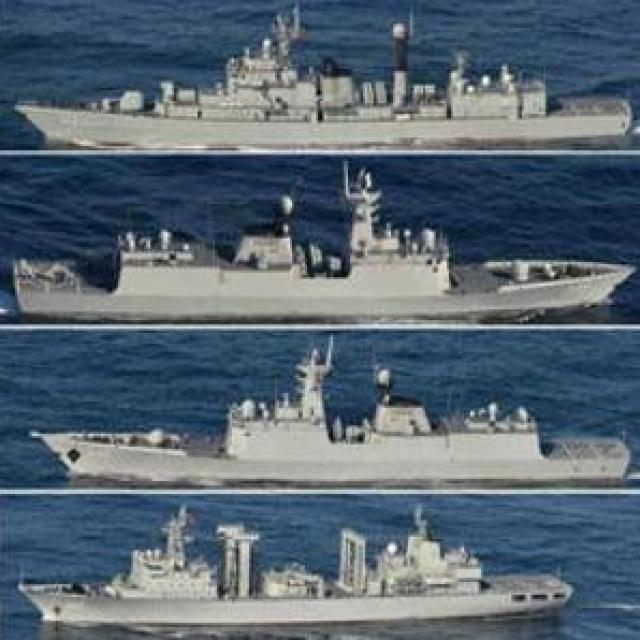navalvessels: (4, 163, 632, 324), (16, 332, 626, 491), (14, 4, 624, 153), (7, 498, 577, 632)
